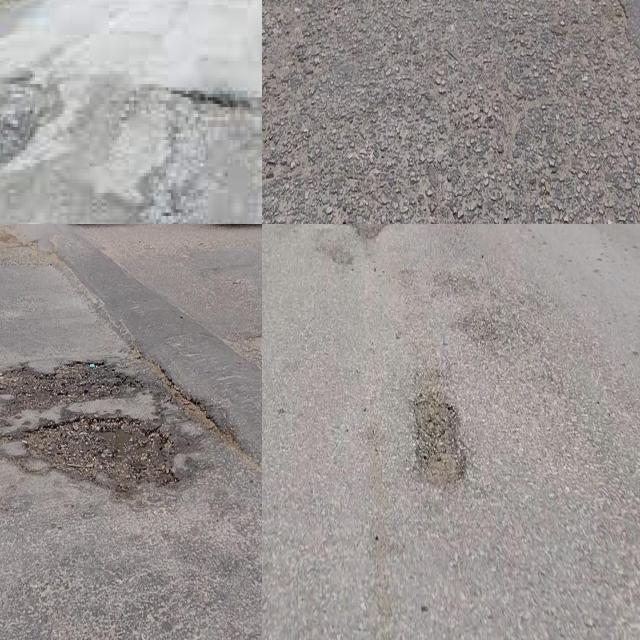Pothole: (18, 411, 175, 493), (0, 356, 127, 413), (413, 388, 467, 497), (335, 224, 390, 252)
